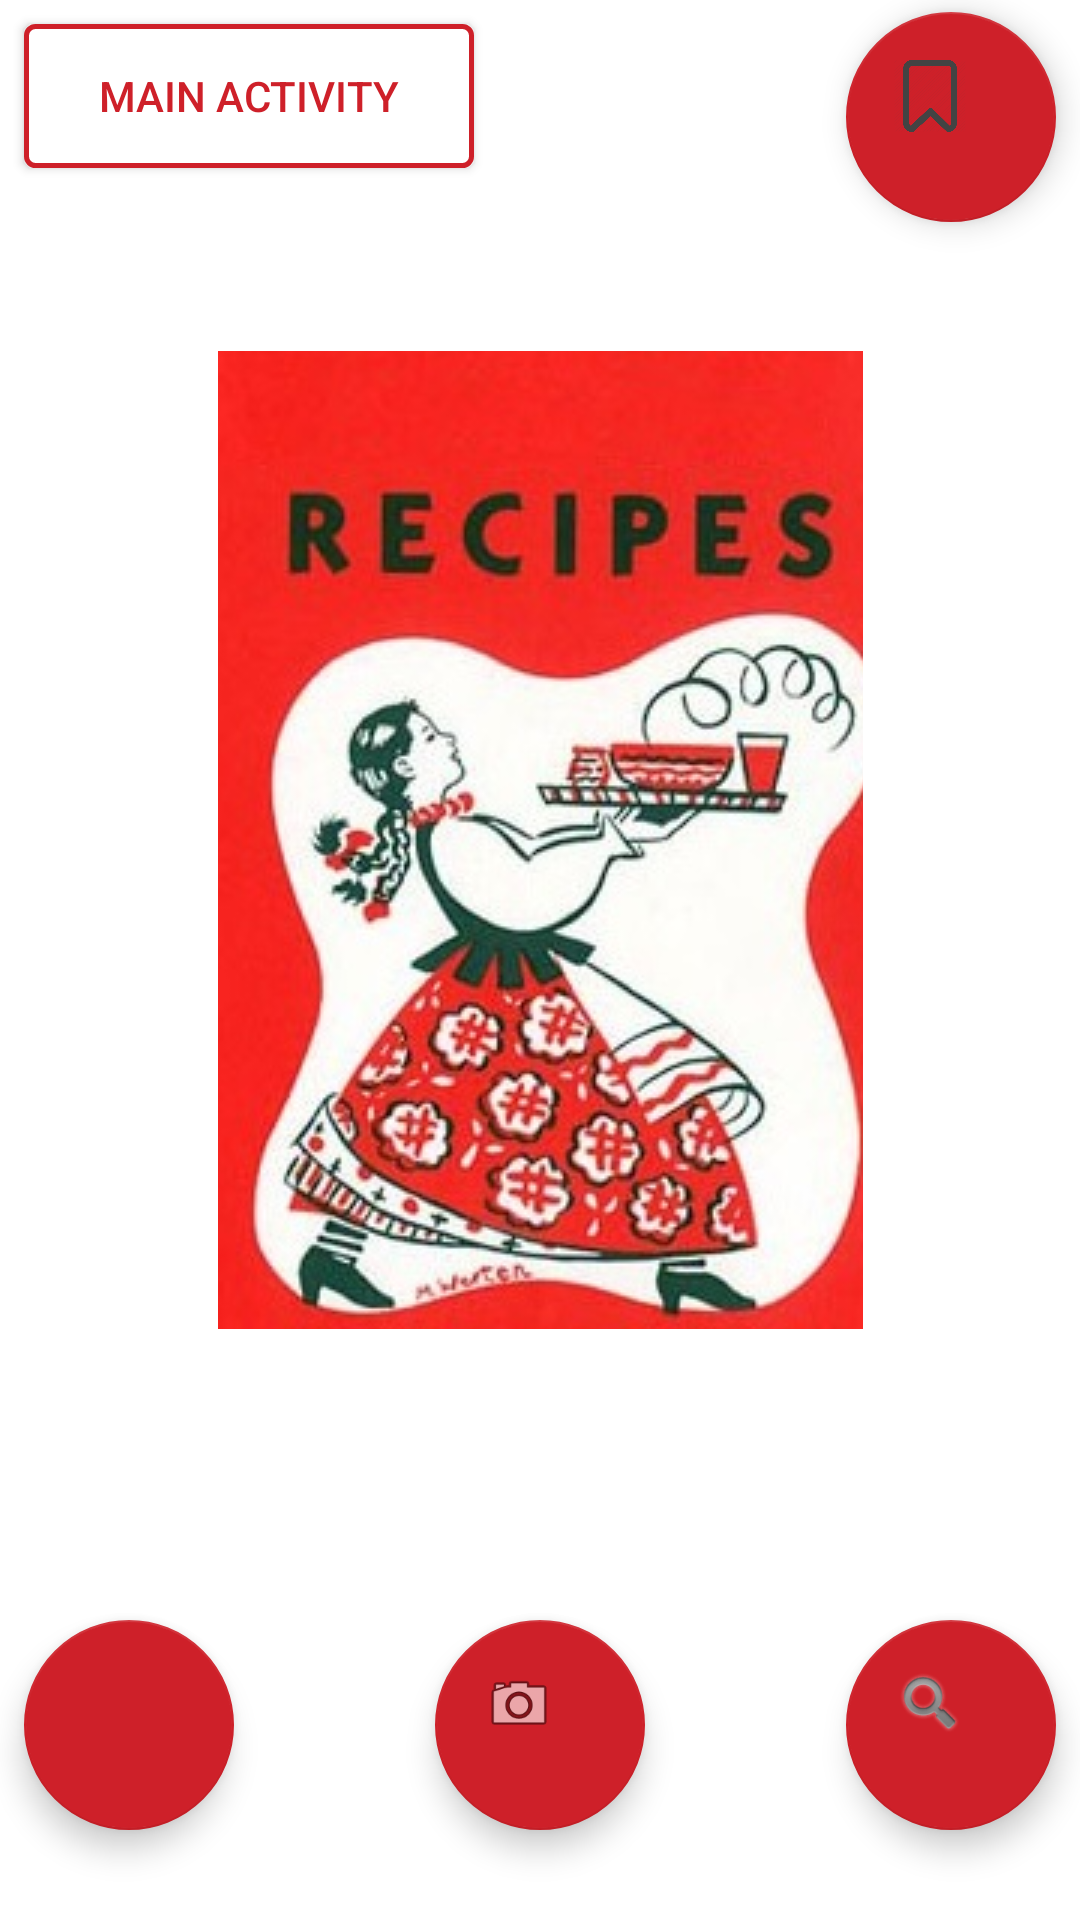

Named icons in this screenshot (1080 x 1920) and their centers, point (x, y):
camera: point (540, 1725)
favorite: point (951, 117)
search category: point (951, 1725)
